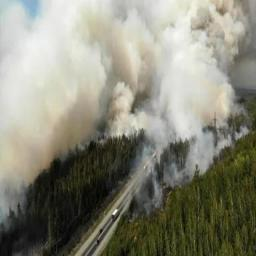Heavy smoke: (5, 2, 256, 232)
